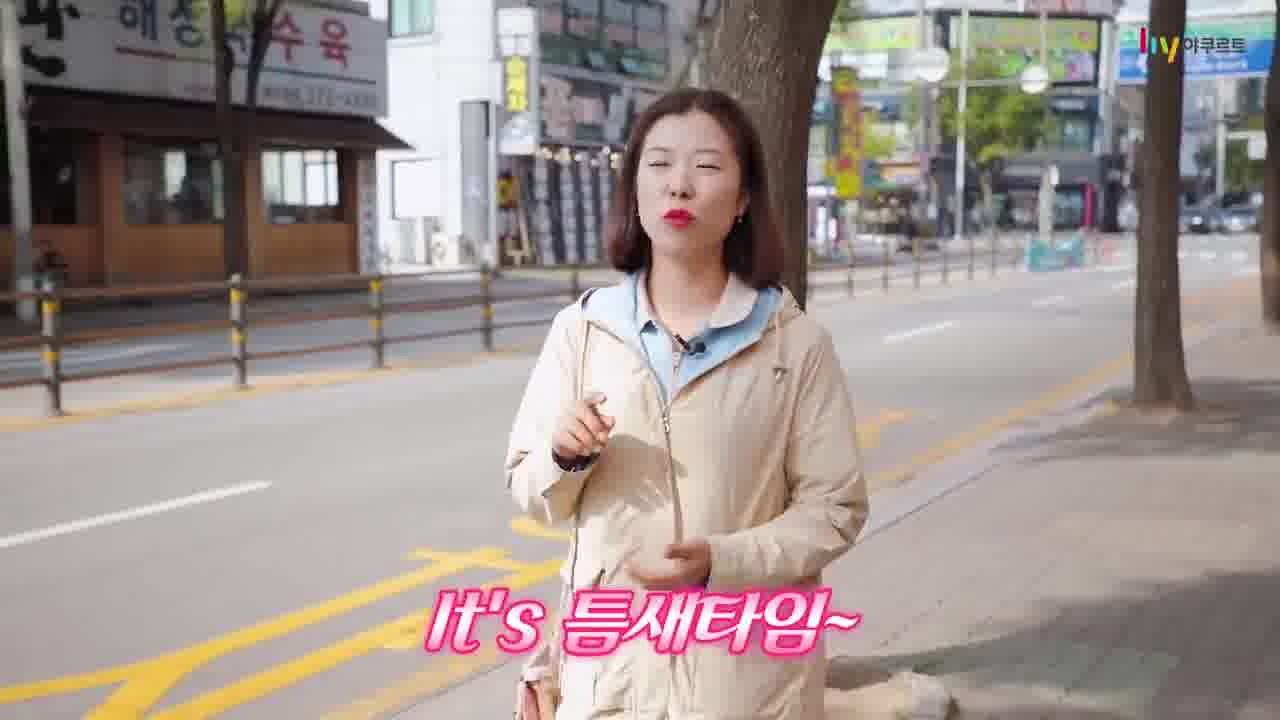Yakurut: (488, 80, 880, 720)
